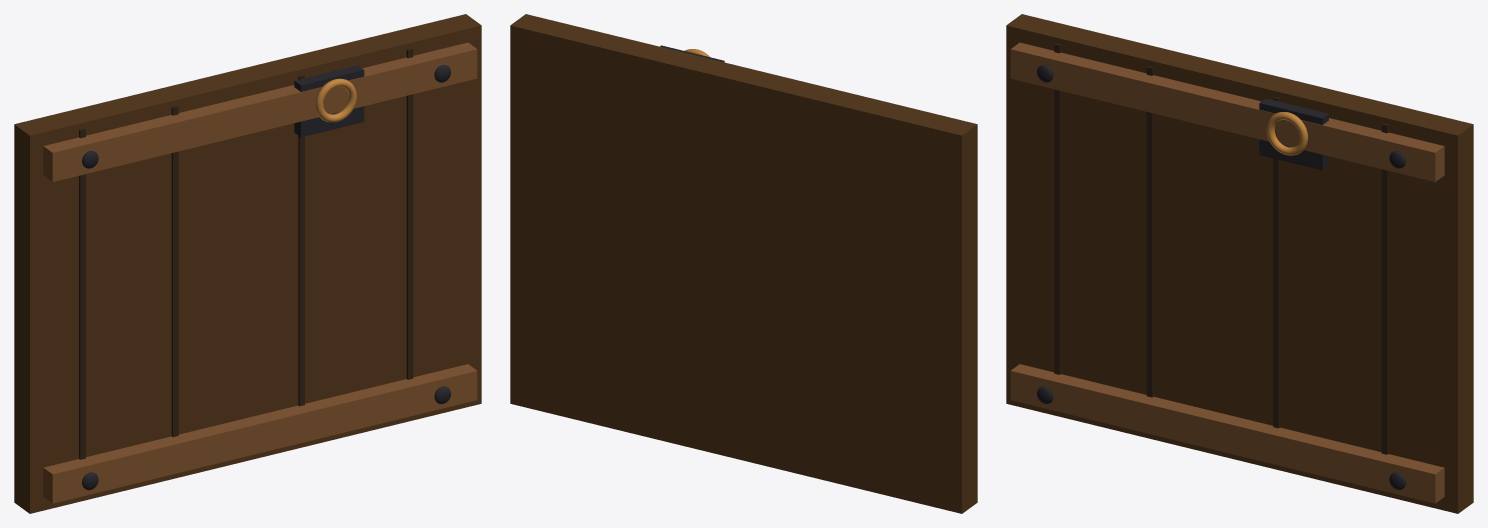
The model's file is mia-attic_door.glb.
3 renders of one model, left to right at view 1: azimuth 30°, elevation 25°; view 2: azimuth 150°, elevation 25°; view 3: azimuth 330°, elevation 25°, orthographic.
Parts seen in each view (by area): view 1: Body_wood, Body_oak, Body_grain, Body_iron, Body_brass; view 2: Body_wood; view 3: Body_wood, Body_oak, Body_grain, Body_iron, Body_brass.
Boxes of the visible parts, x1,y1,x2,y2 form: Body_wood: (14,14,481,513); Body_oak: (43,42,477,503); Body_grain: (79,48,413,459); Body_iron: (82,65,450,490); Body_brass: (315,78,356,122); Body_wood: (510,14,977,513); Body_wood: (1006,14,1473,513); Body_oak: (1010,42,1444,503); Body_grain: (1054,43,1388,454); Body_iron: (1037,65,1405,490); Body_brass: (1266,112,1308,155).
Bounding box in the file's own units: 1 × 0.8 × 0.1159.
